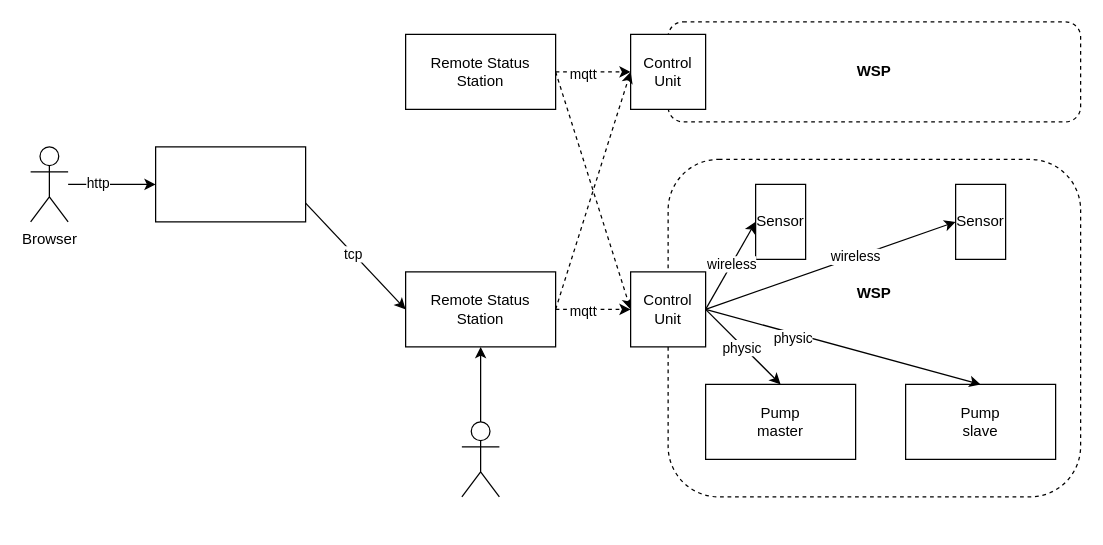
This 1103x545 diagram has some shape labels left out. The box of each missing label's shape, as (x1, y1, x2, y2) in pixels:
Actor: (461, 421, 499, 497)
WWW Server: (154, 146, 306, 222)
